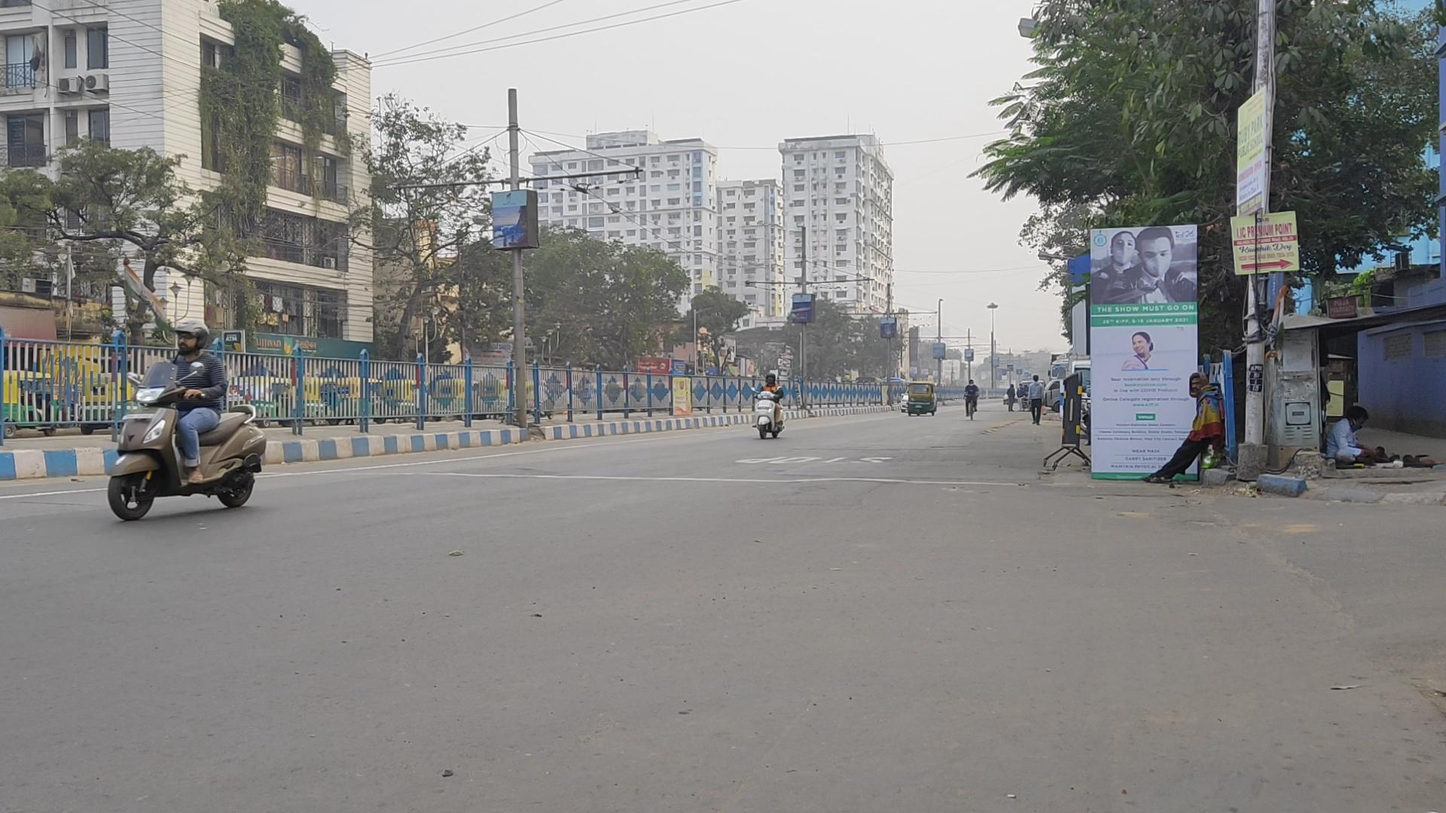Auto: (908, 381, 935, 416)
bike: (108, 320, 267, 521), (751, 373, 785, 439), (962, 379, 980, 421)
car: (901, 387, 938, 413)
